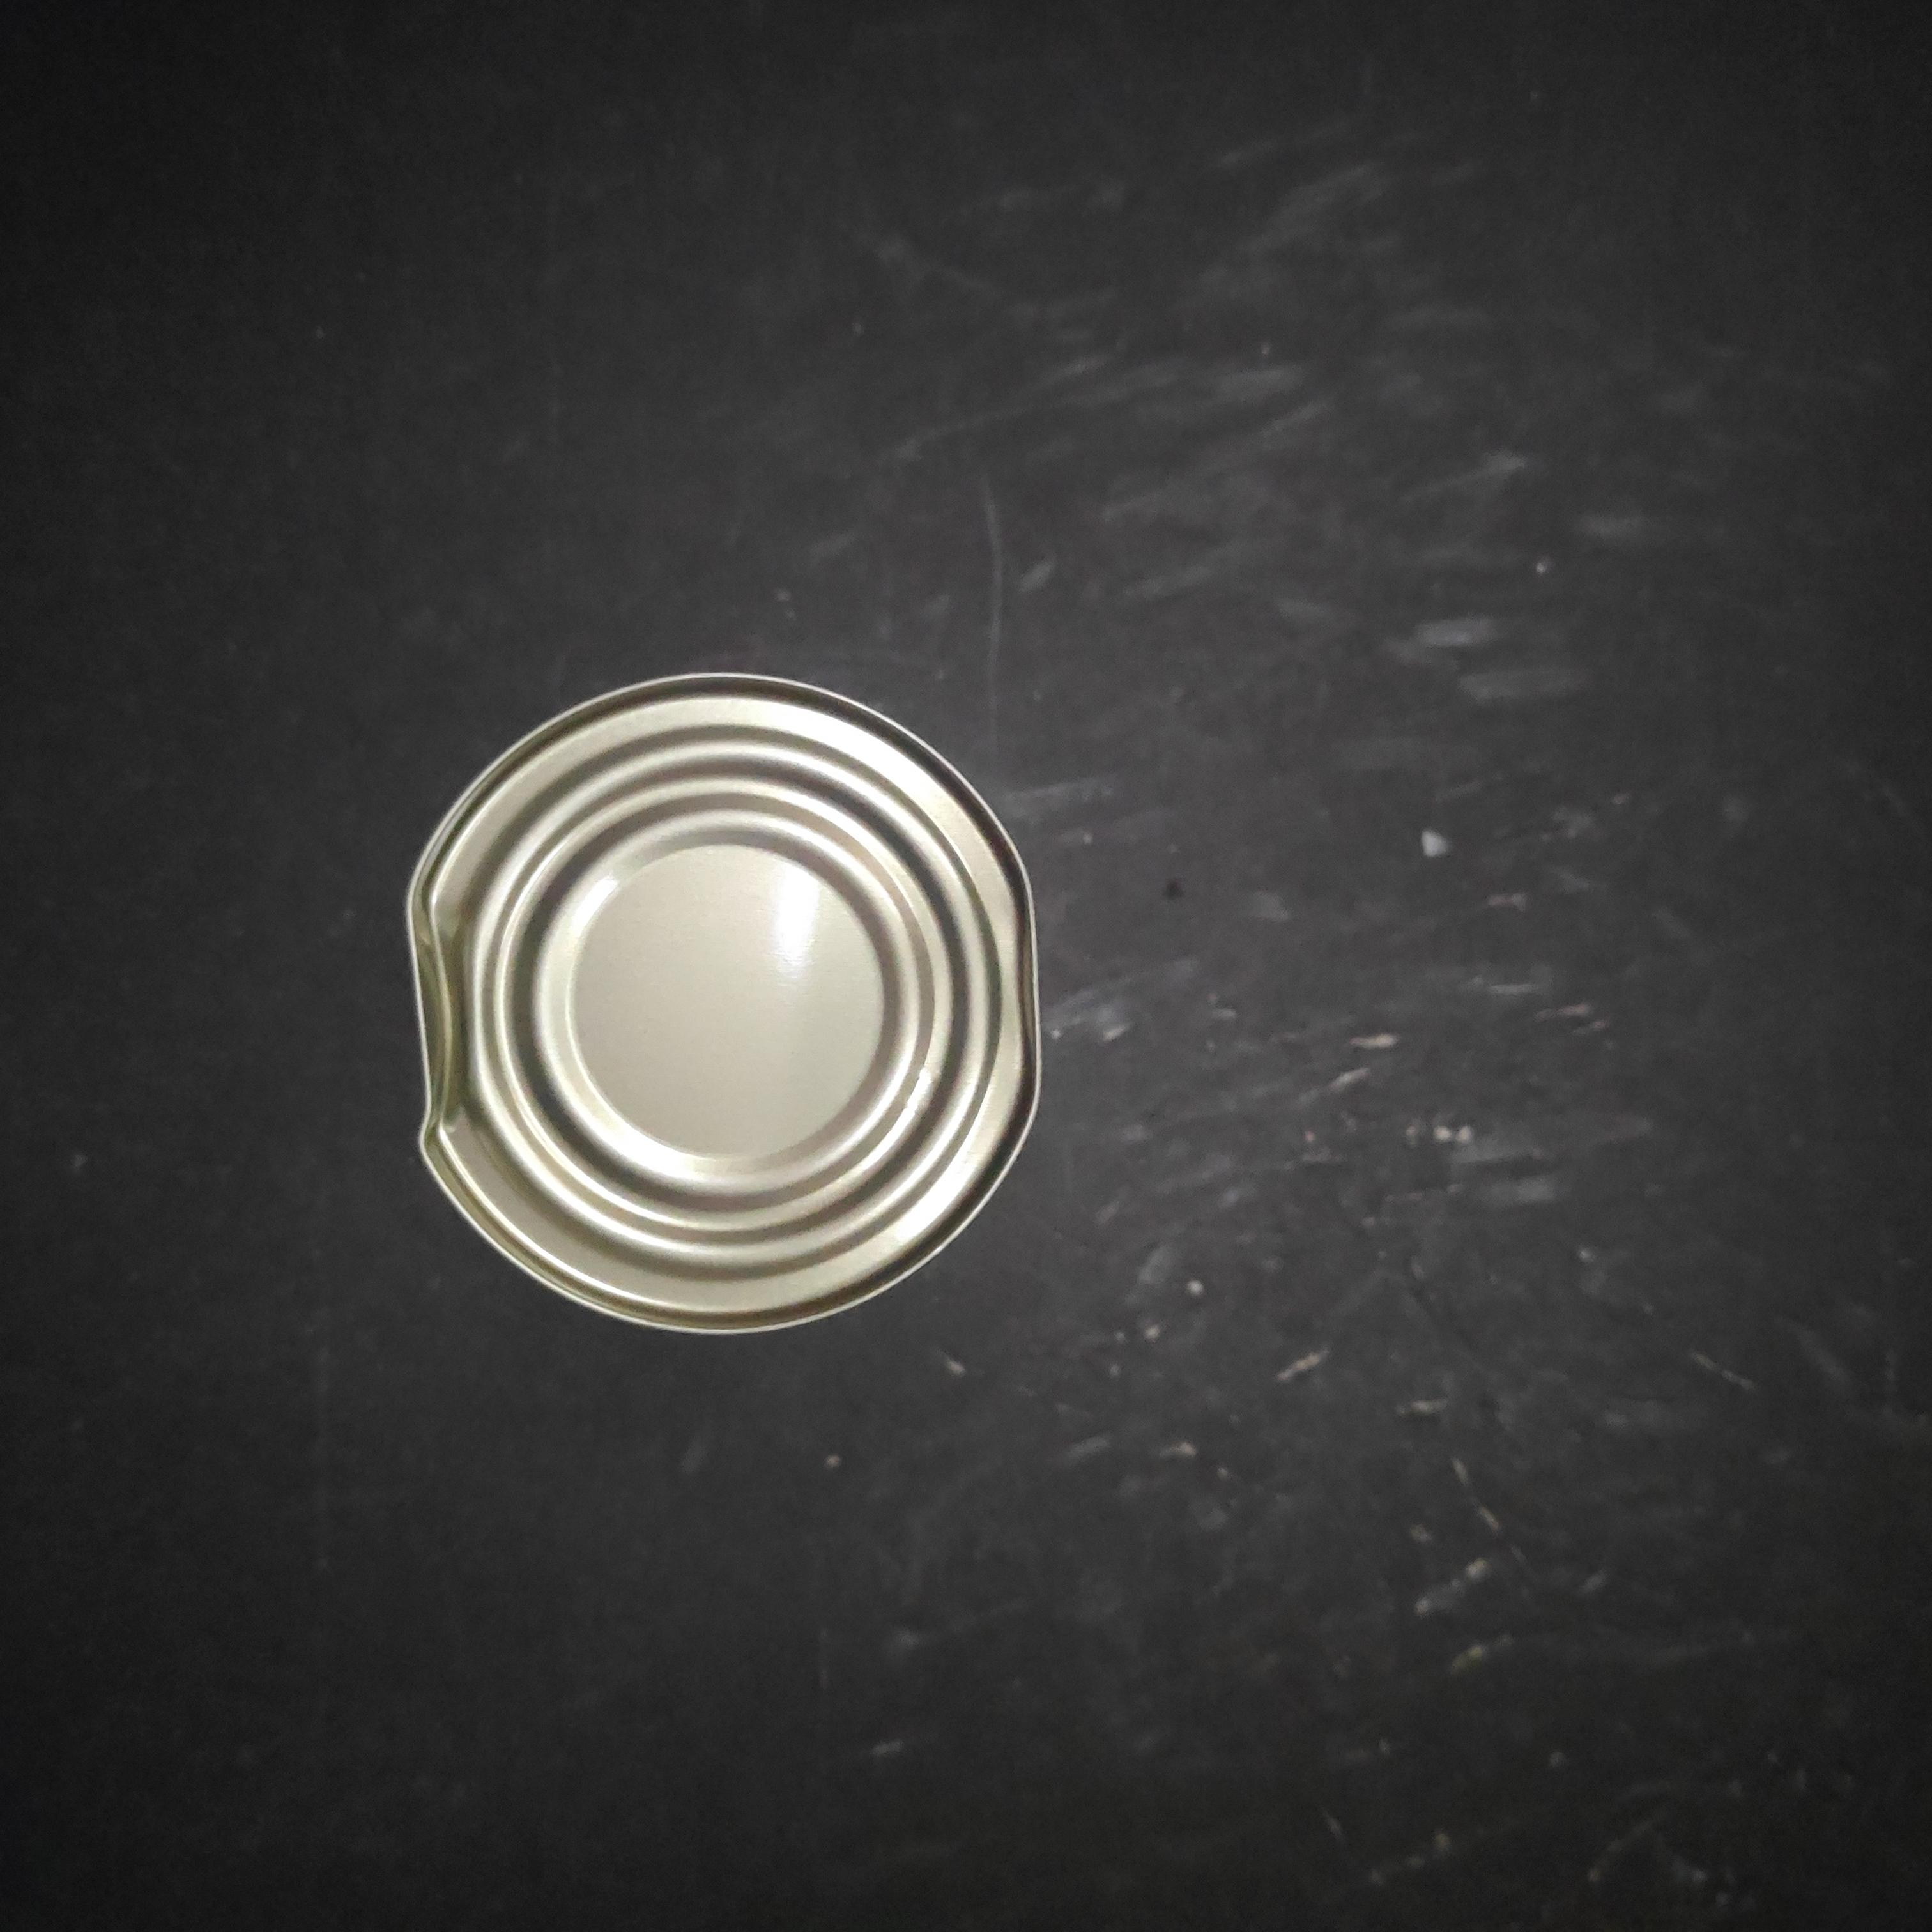Minor Defect: (876, 579, 1546, 1283)
